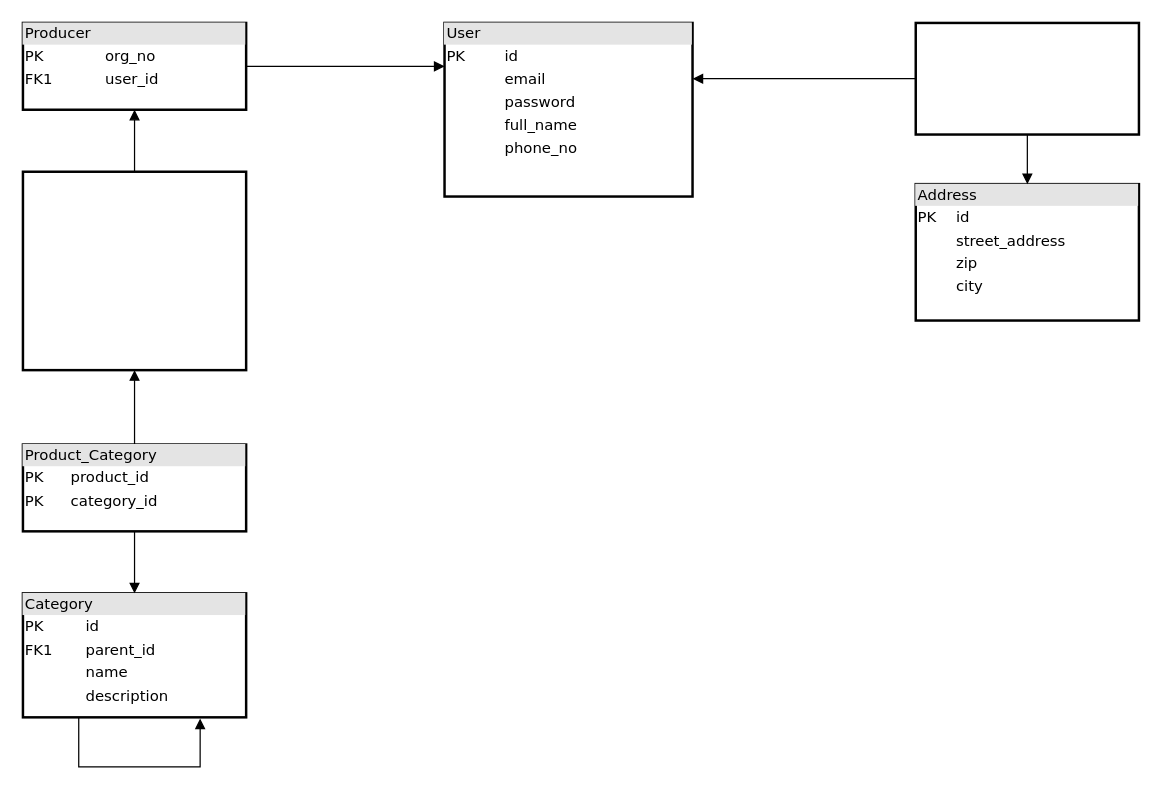
This 1161x799 diagram has some shape labels left out. Here are the shapes that lost their labels. From the top down, the centre of each, then its label:
At (1027,78): "User_Address PK user_id PK address_id type".
At (134,270): "Product PK id FK1 producer_org_no name description price unit in_stock".
